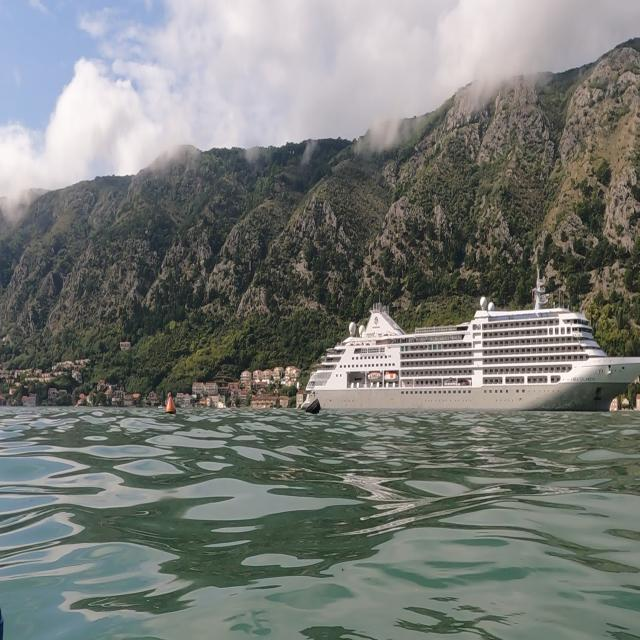boat: (298, 262, 638, 416)
buoy: (297, 396, 325, 424), (161, 392, 181, 420)
